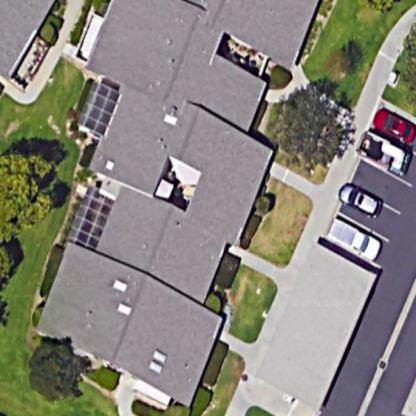car: (348, 126, 412, 180), (323, 213, 384, 262), (331, 176, 386, 216), (367, 103, 416, 140)
